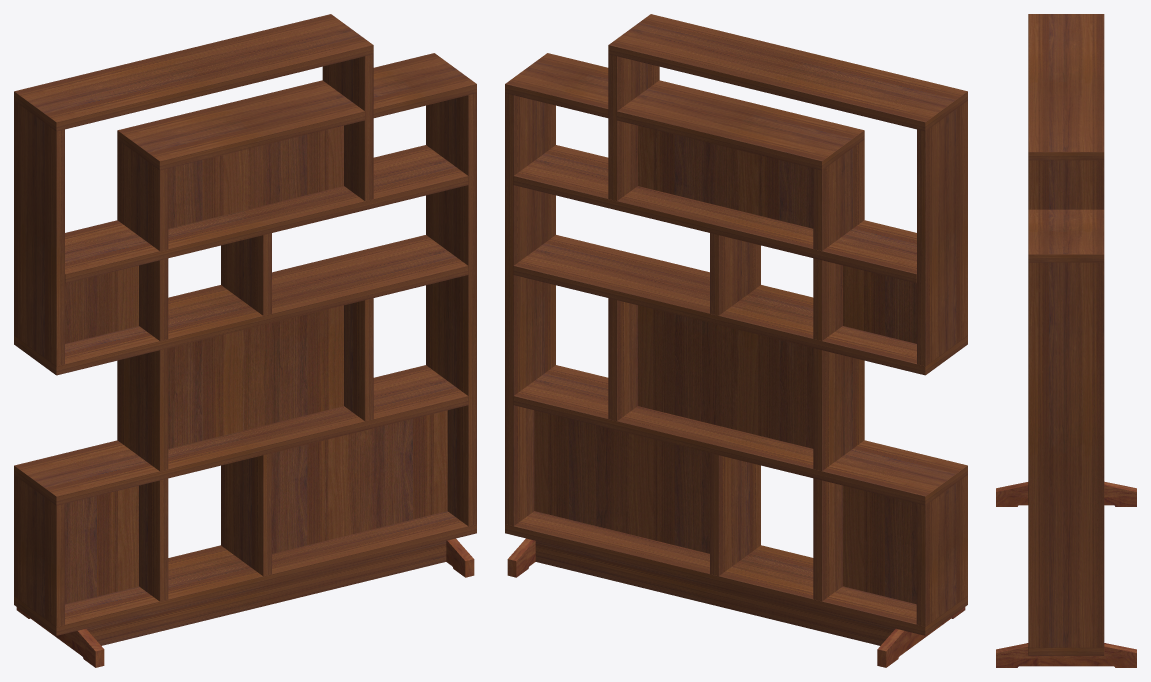
The model's file is obj_solo_120_wn_581d86.glb.
The picture shows the model from 3 angles, left to right: view 1: azimuth 30°, elevation 25°; view 2: azimuth 150°, elevation 25°; view 3: azimuth 270°, elevation 25°; orthographic projection. The views are drawn at different scales.
Parts seen in each view (by area): view 1: obj_solo_120_wn_581d86; view 2: obj_solo_120_wn_581d86; view 3: obj_solo_120_wn_581d86.
Boxes of the visible parts, box(x1,y1,x2,y2) form: obj_solo_120_wn_581d86: box(14, 14, 476, 667); obj_solo_120_wn_581d86: box(505, 14, 967, 667); obj_solo_120_wn_581d86: box(996, 14, 1136, 667).
Bounding box in the file's own units: 0.2867 × 0.35 × 0.0932.
Materials: 3 (3 with a texture image).
